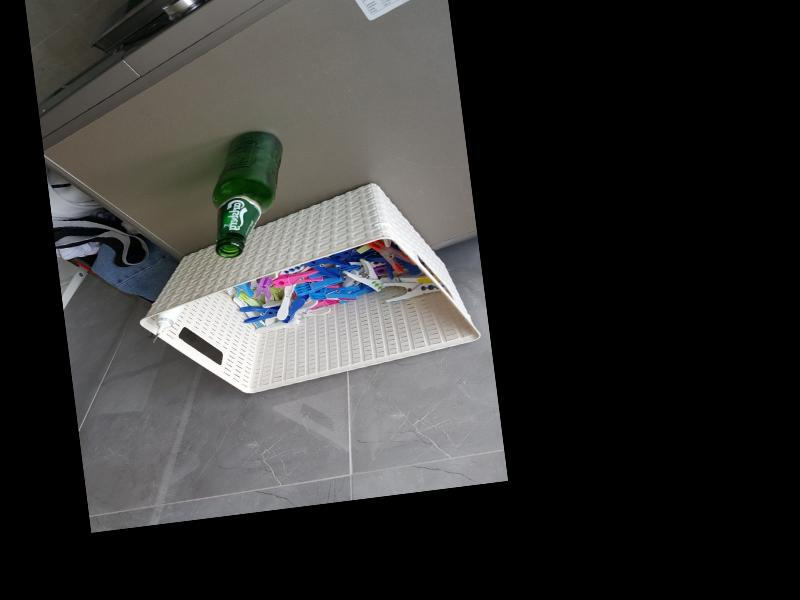Beer: (202, 128, 295, 259)
